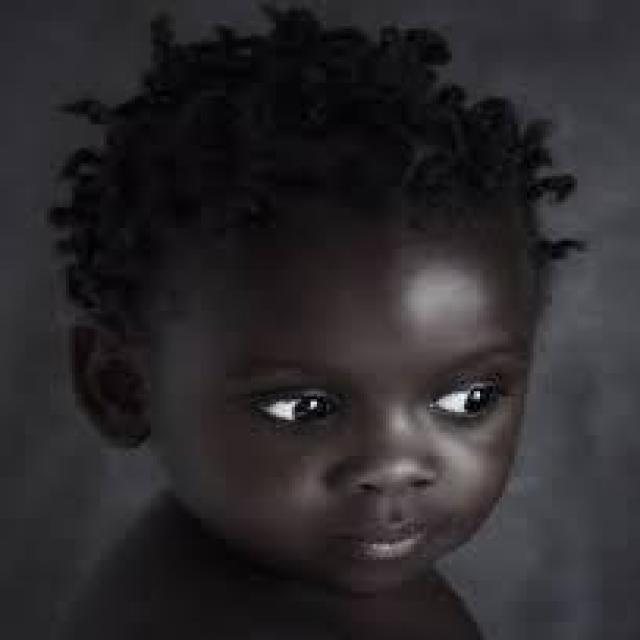person: (47, 28, 571, 638)
